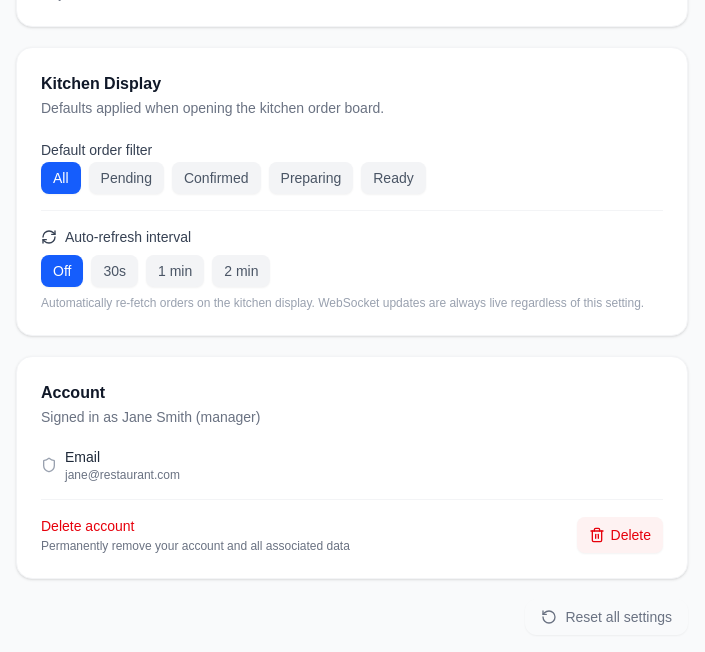
SettingsPage › first click on reset shows confirmation text
The width and height of the screenshot is (705, 652).
(page scrolled)
Click the button "Reset all settings" at x=607, y=617, box x1=525 y1=599 x2=688 y2=635
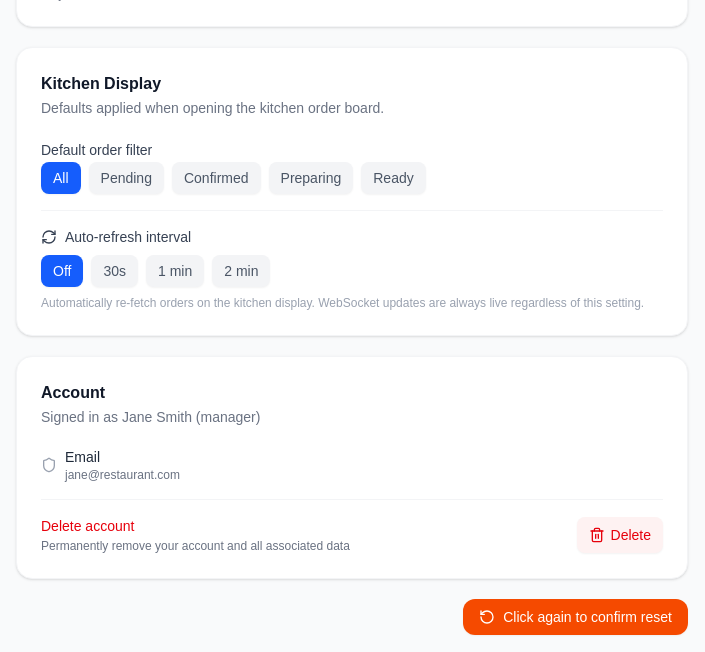
Expected: the button "Click again to confirm reset" is shown, x1=463 y1=599 x2=688 y2=635
